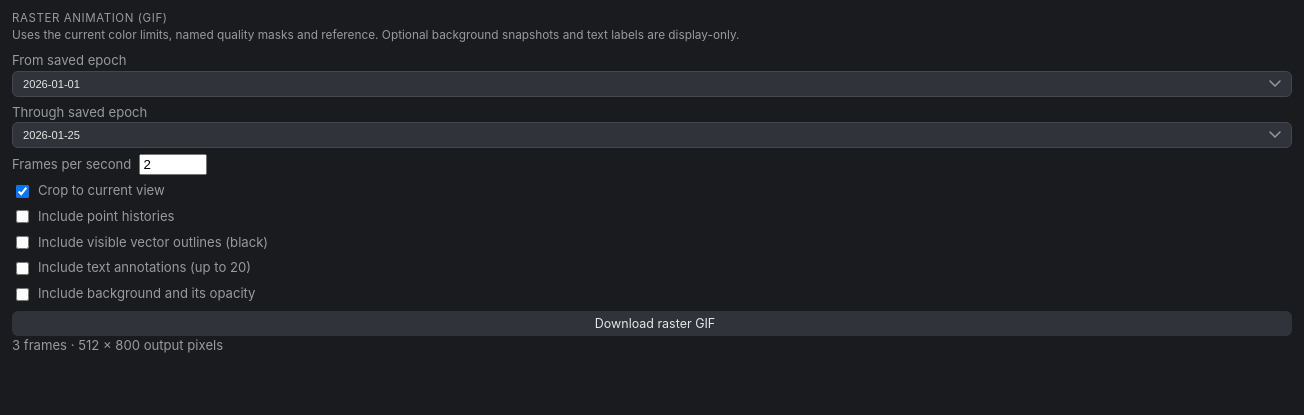
observes adding and hiding vector layers without remounting
Later steps or results of the test are not shown.
Expected: the button "Download raster GIF" is enabled, [12,311,1292,336]
Click the checkbox named "Include vector outlines in GIF" at x=22, y=243, box [16,236,29,249]
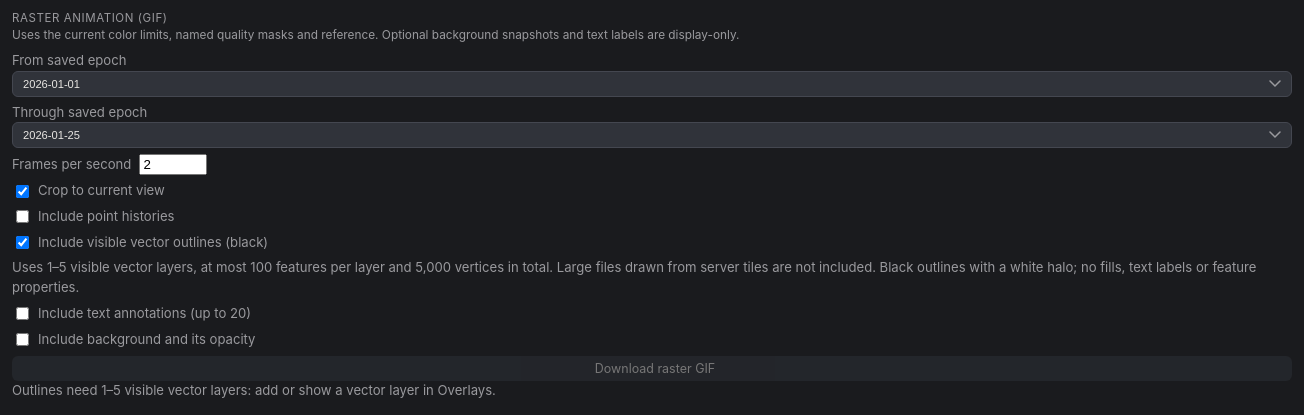
Expected: the button "Download raster GIF" is disabled, [12,356,1292,381]
Expected: the text "Outlines need 1–5 visible vector layers" is shown, [12,382,255,398]
